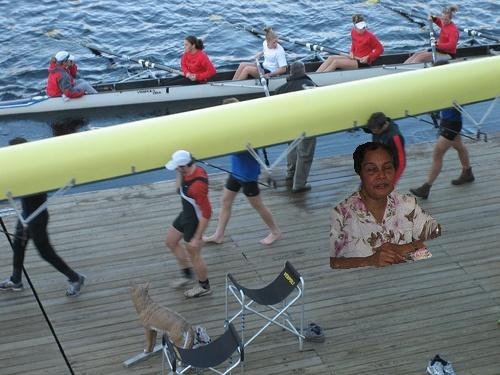tampered: (331, 143, 441, 269)
